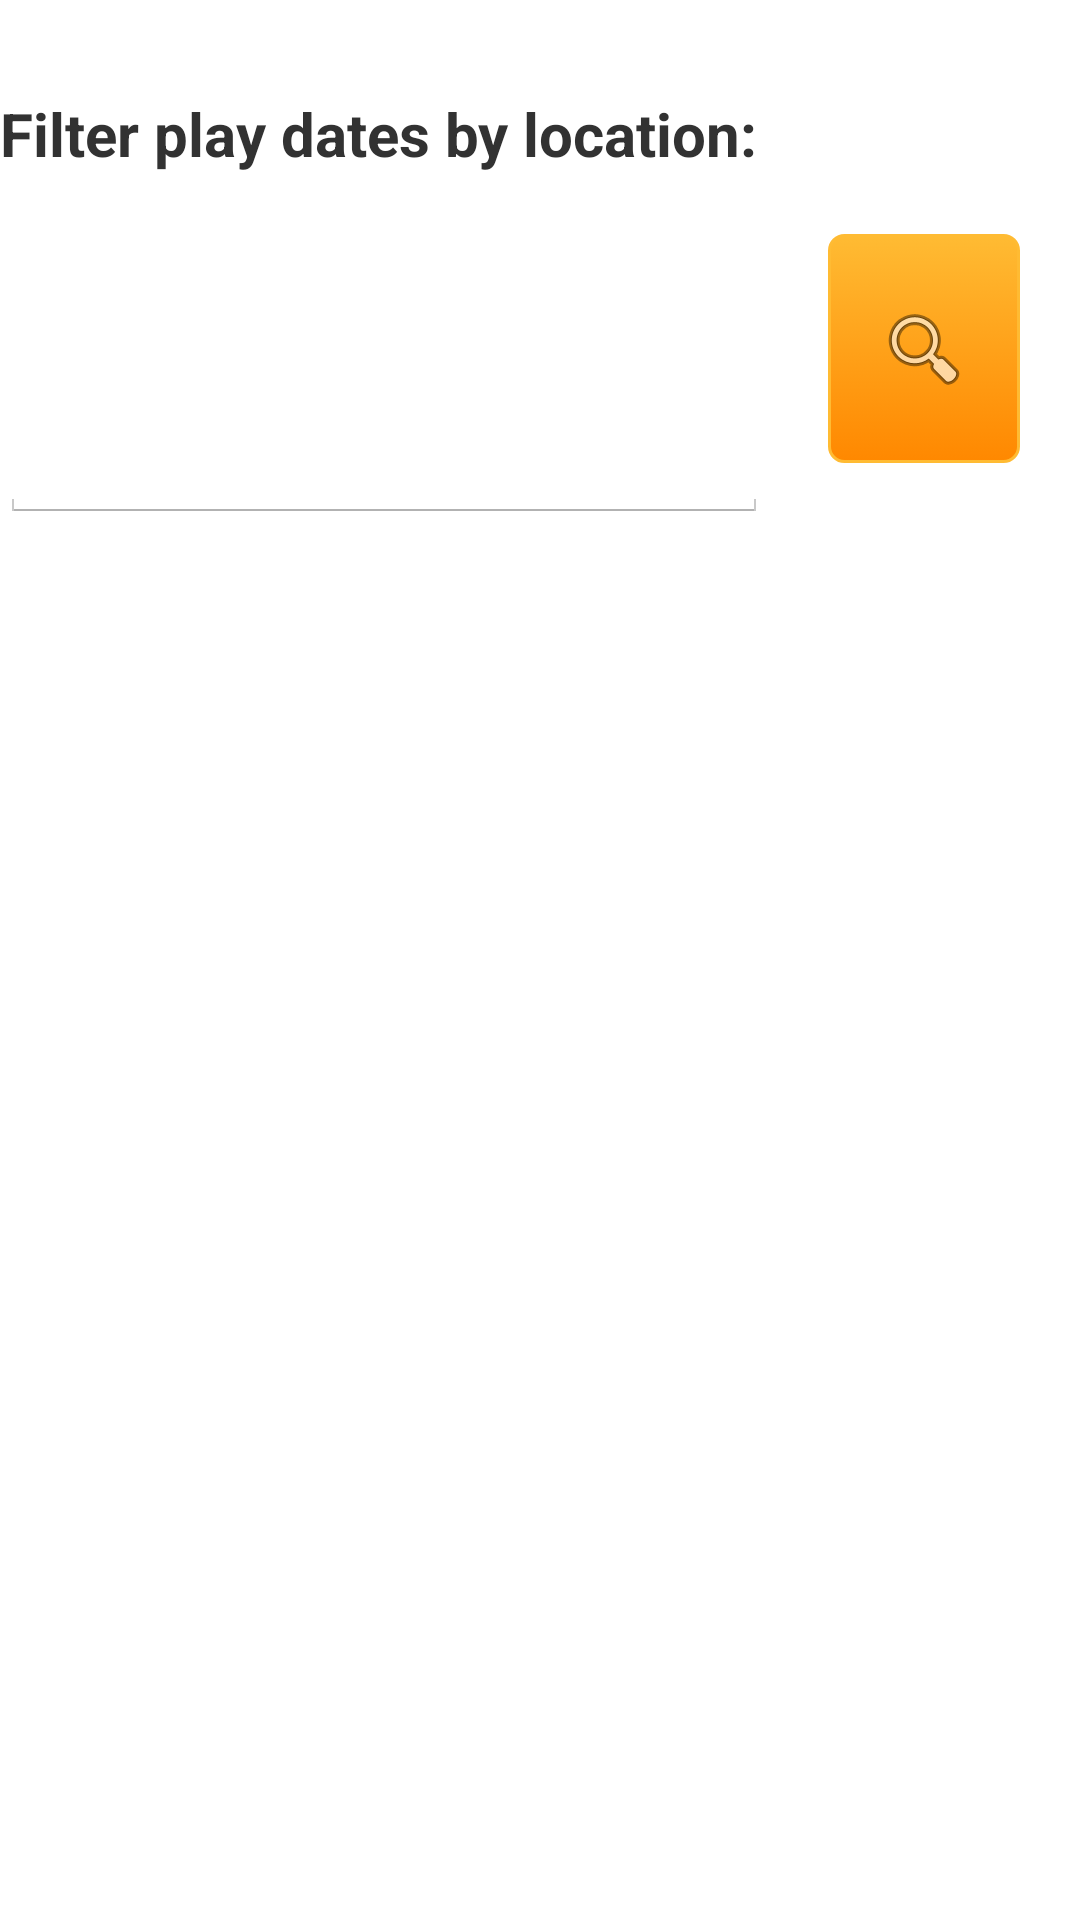

Point at icon controls on the screen. Image size 1080px×1920px, points as (x=x, y=y).
search: (x=924, y=348)
